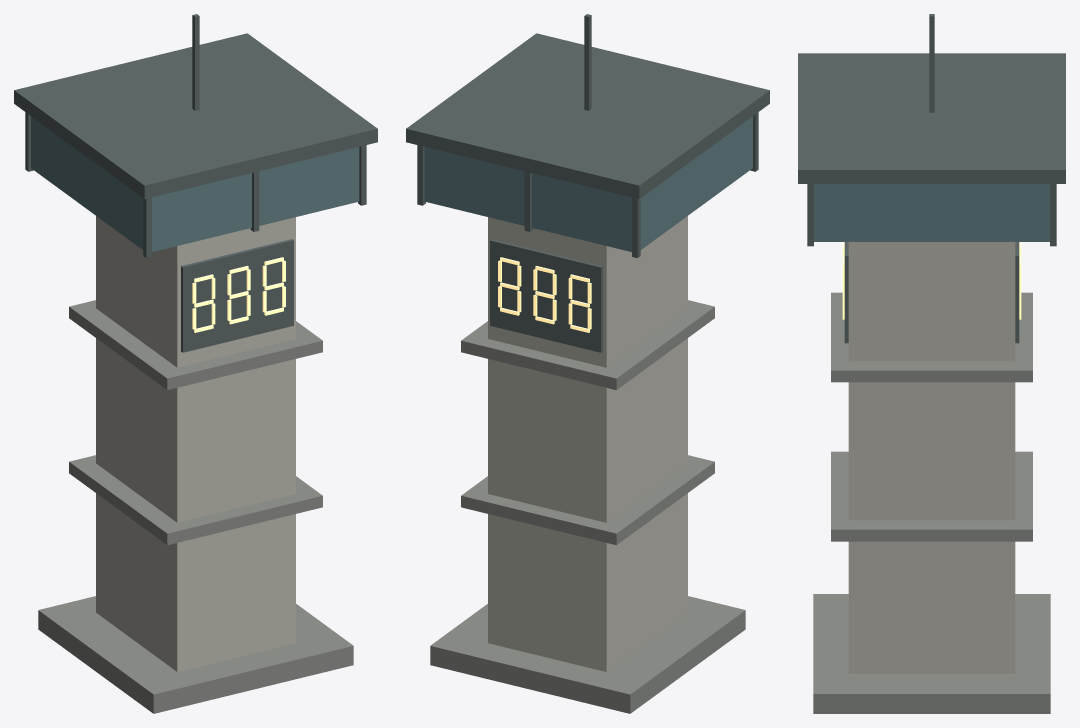
Rendered from forest-timing-tower-lod.glb.
3 views of the same model, side by side, from view 1: azimuth 30°, elevation 25°; view 2: azimuth 150°, elevation 25°; view 3: azimuth 270°, elevation 25° (orthographic). The views are drawn at different scales.
Parts seen in each view (by area): view 1: forest-timing-tower; view 2: forest-timing-tower; view 3: forest-timing-tower.
Part boxes in pixels (left/top/right/bottom): forest-timing-tower: left=14, top=14, right=377, bottom=713; forest-timing-tower: left=406, top=14, right=769, bottom=713; forest-timing-tower: left=798, top=14, right=1065, bottom=713.
Bounding box in the file's own units: 6.3 × 16.3 × 6.1.
